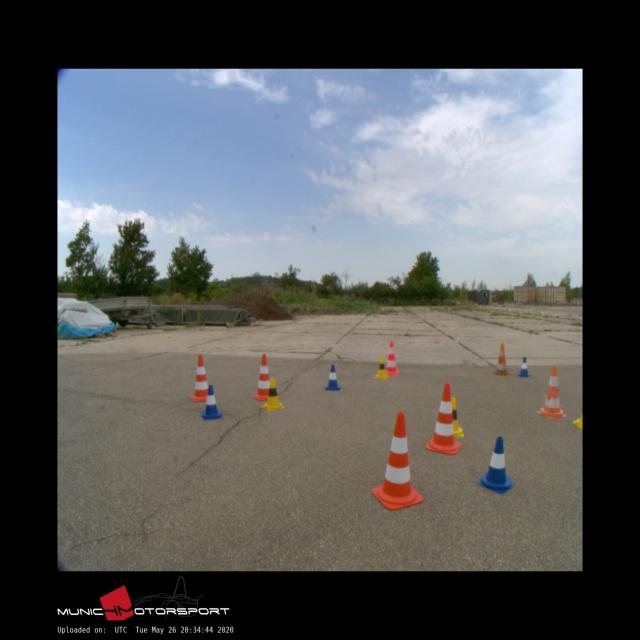blue_cone: (477, 436, 515, 494), (201, 385, 222, 419), (324, 365, 340, 390), (517, 357, 530, 376)
large_orange_cone: (372, 412, 422, 509), (426, 382, 460, 453), (537, 366, 566, 418), (251, 354, 274, 399), (190, 355, 212, 400), (385, 341, 399, 373), (494, 343, 508, 375)
yellow_cone: (262, 379, 284, 410), (450, 397, 464, 436), (374, 357, 389, 378)
